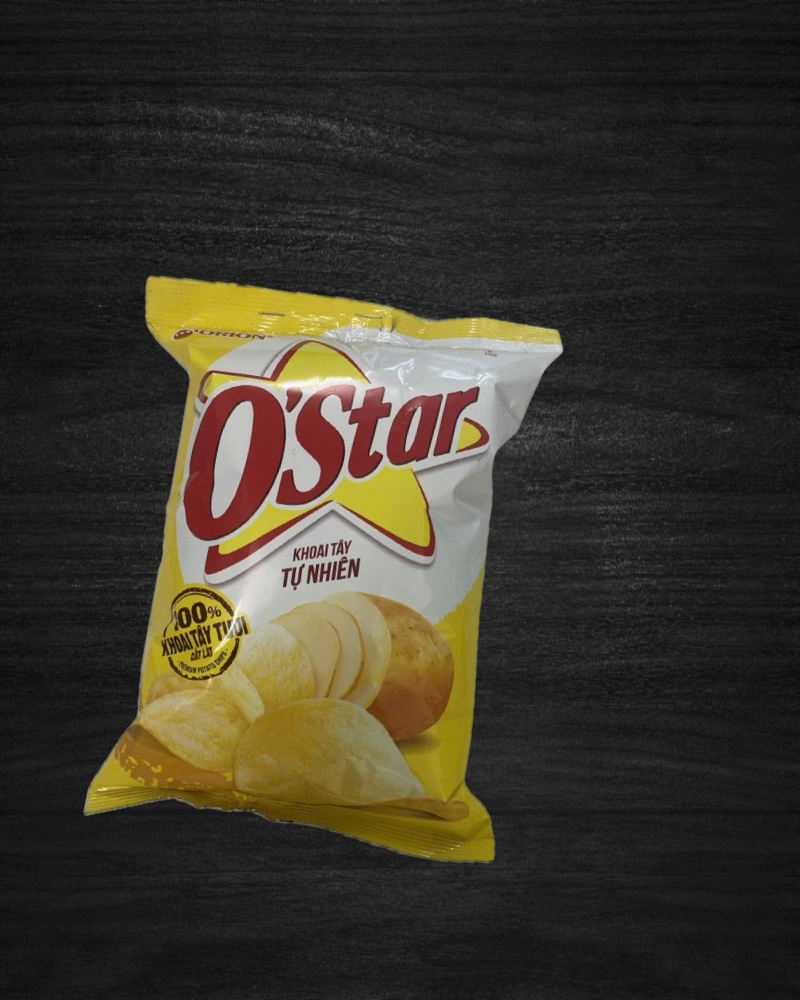O'star: (55, 258, 587, 887)
